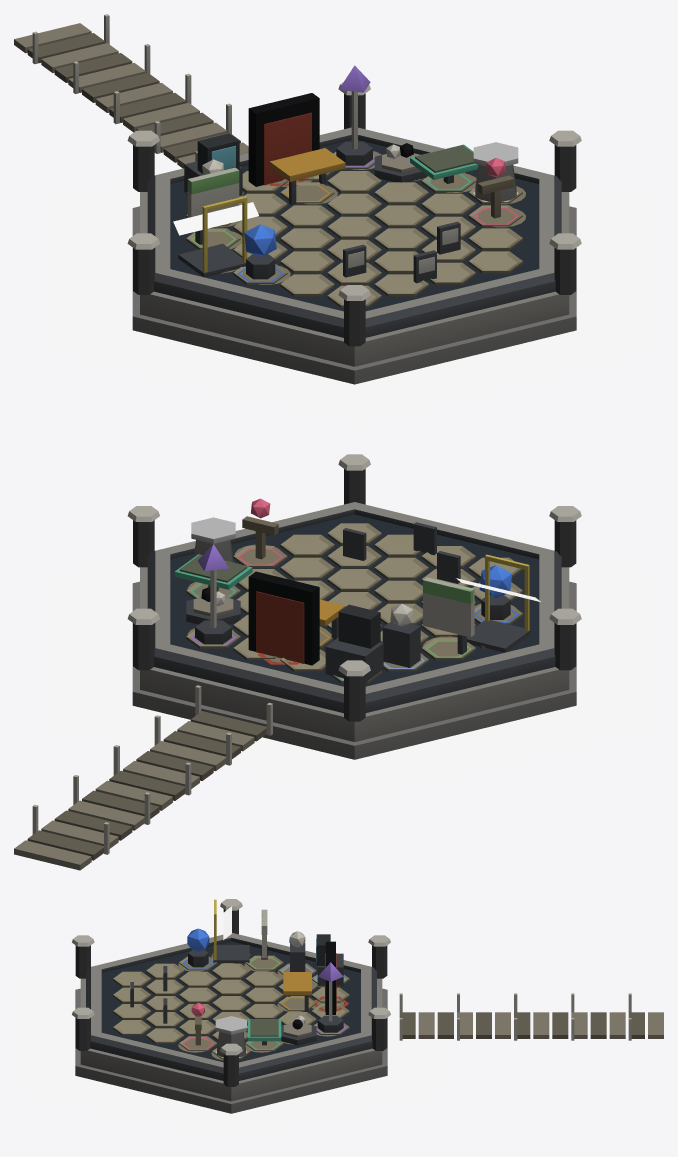
Rendered from scene_hub_deck.glb.
3 renders of one model, top to bottom at view 1: azimuth 30°, elevation 25°; view 2: azimuth 150°, elevation 25°; view 3: azimuth 270°, elevation 25°, orthographic. The views are drawn at different scales.
Parts seen in each view (by area): view 1: scene_ao_hub, scene_slab_hub, scene_hub_pier, scene_hub_prop_door, scene_hub_prop_lift, scene_hub_prop_calendar, scene_hub_prop_table, scene_hub_prop_crt, scene_hub_prop_map, scene_hub_prop_antenna, scene_hub_prop_podium, scene_hub_prop_globe (+32 smaller); view 2: scene_slab_hub, scene_ao_hub, scene_hub_pier, scene_hub_prop_door, scene_hub_prop_crt, scene_hub_prop_calendar, scene_hub_prop_lift, scene_hub_prop_robot, scene_hub_prop_antenna, scene_hub_prop_podium, scene_hub_post_3, scene_hub_post_1 (+21 smaller); view 3: scene_slab_hub, scene_ao_hub, scene_hub_pier, scene_hub_prop_podium, scene_hub_prop_map, scene_hub_prop_antenna, scene_hub_prop_lift, scene_hub_prop_arena, scene_hub_prop_table, scene_hub_prop_globe, scene_hub_post_0, scene_hub_post_1 (+25 smaller).
Part boxes in pixels (x1,y1,x2,y2): scene_ao_hub: (45, 126, 663, 425); scene_slab_hub: (132, 127, 576, 384); scene_hub_pier: (14, 14, 248, 168); scene_hub_prop_door: (248, 93, 319, 186); scene_hub_prop_lift: (178, 196, 247, 277); scene_hub_prop_calendar: (187, 167, 239, 244); scene_hub_prop_table: (269, 148, 345, 205); scene_hub_prop_crt: (184, 133, 242, 195); scene_hub_prop_map: (410, 144, 478, 183); scene_hub_prop_antenna: (336, 65, 372, 165); scene_hub_prop_podium: (473, 142, 518, 201); scene_hub_prop_globe: (244, 224, 276, 279); scene_slab_hub: (132, 502, 576, 759); scene_ao_hub: (45, 502, 663, 800); scene_hub_pier: (14, 685, 272, 870); scene_hub_prop_door: (248, 571, 319, 665); scene_hub_prop_crt: (325, 604, 383, 683); scene_hub_prop_calendar: (423, 577, 474, 654); scene_hub_prop_lift: (467, 554, 530, 652); scene_hub_prop_robot: (382, 603, 420, 667); scene_hub_prop_antenna: (195, 544, 231, 644); scene_hub_prop_podium: (191, 517, 235, 562); scene_hub_post_3: (549, 608, 581, 670); scene_hub_post_1: (127, 608, 159, 670); scene_slab_hub: (75, 933, 387, 1113); scene_ao_hub: (14, 932, 448, 1142); scene_hub_pier: (399, 993, 663, 1040); scene_hub_prop_podium: (215, 1016, 246, 1057); scene_hub_prop_map: (247, 1019, 281, 1045); scene_hub_prop_antenna: (317, 962, 343, 1032); scene_hub_prop_lift: (213, 899, 249, 962); scene_hub_prop_arena: (281, 1015, 316, 1045); scene_hub_prop_table: (283, 972, 311, 1011); scene_hub_prop_globe: (187, 928, 209, 967); scene_hub_post_0: (220, 1043, 242, 1086); scene_hub_post_1: (368, 1007, 390, 1050).
Bounding box in the file's own units: 13.14 × 3.28 × 17.01.
